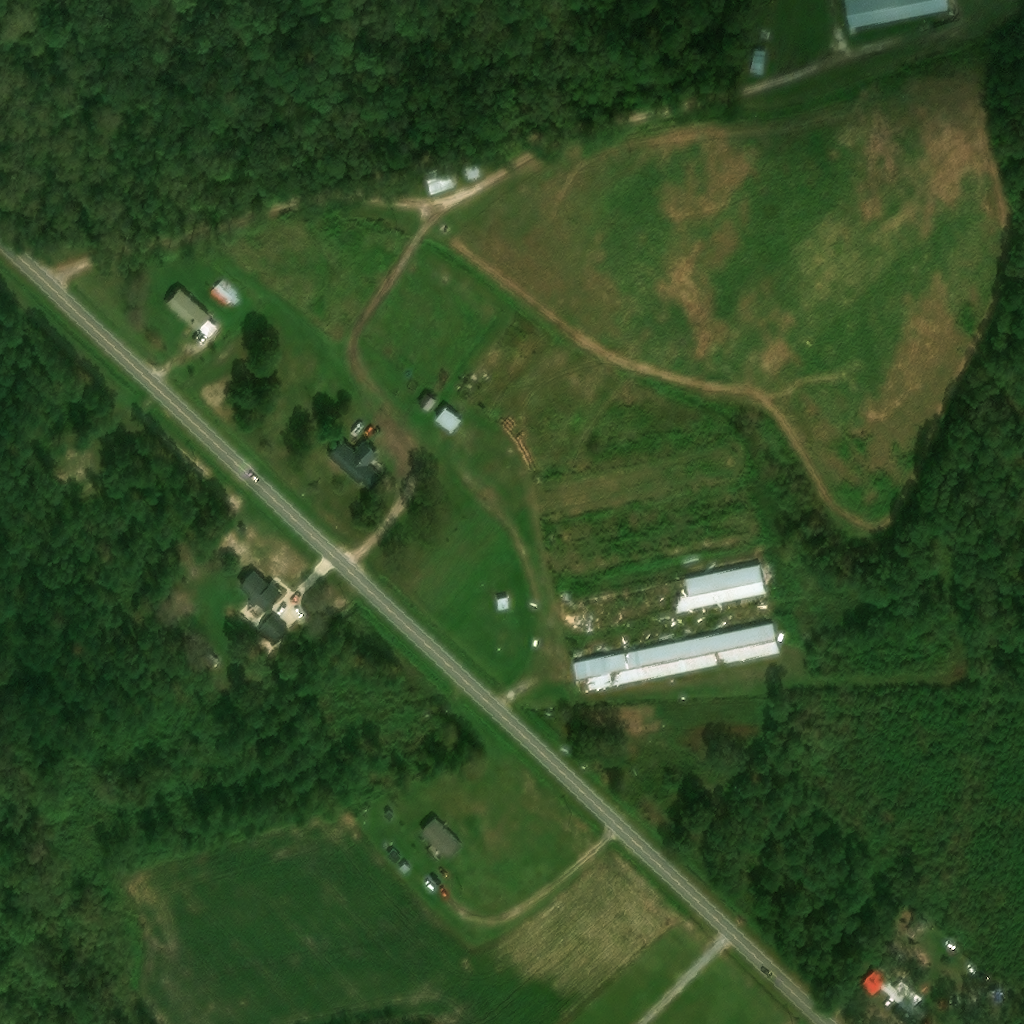major_damage: (573, 622, 779, 692), (666, 562, 767, 612)
no_damage: (860, 965, 926, 1022), (843, 0, 947, 27), (165, 286, 216, 336), (327, 438, 379, 486), (420, 816, 463, 859), (239, 568, 282, 609), (257, 614, 289, 646), (422, 162, 454, 192), (207, 284, 235, 310), (433, 406, 461, 431), (747, 49, 766, 75), (988, 988, 1011, 1005), (417, 394, 437, 413), (388, 848, 405, 865), (495, 596, 509, 610), (400, 862, 411, 873)
unclassified: (462, 156, 481, 179), (457, 428, 468, 439)
